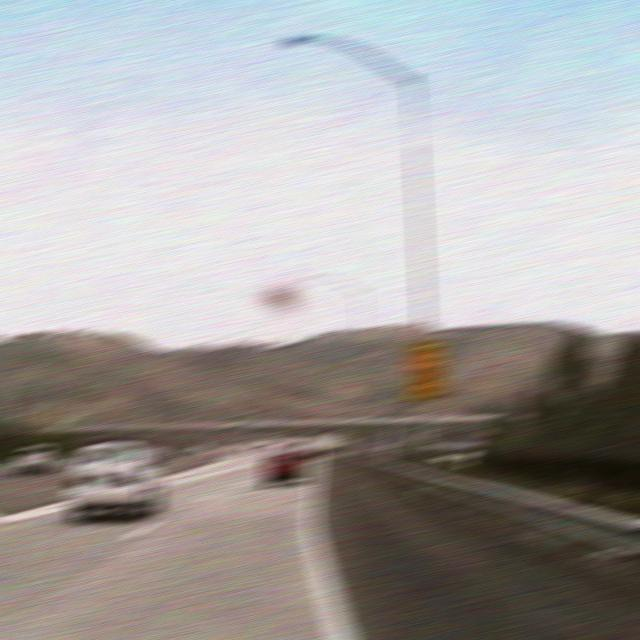speedLimit50: (403, 338, 449, 401)
